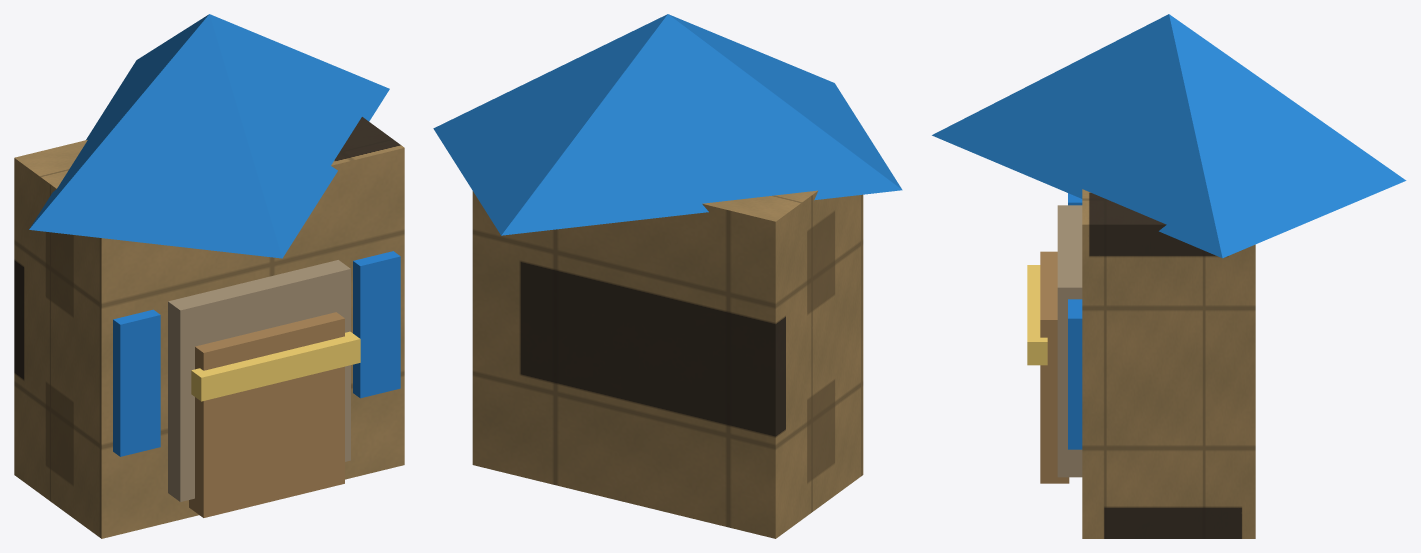
Rendered from city-module-gate-lod0.glb.
3 renders of one model, left to right at view 1: azimuth 30°, elevation 25°; view 2: azimuth 150°, elevation 25°; view 3: azimuth 270°, elevation 25°, orthographic.
Parts seen in each view (by area): view 1: module_gate_stone_arch, module_gate_blue_roof, module_gate_wood_door, module_gate_dark_arch_opening, module_gate_left_banner, module_gate_right_banner, module_gate_gold_crossbar; view 2: module_gate_stone_arch, module_gate_blue_roof; view 3: module_gate_blue_roof, module_gate_stone_arch, module_gate_dark_arch_opening, module_gate_wood_door, module_gate_right_banner, module_gate_gold_crossbar.
Boxes of the visible parts, box(x1,y1,x2,y2) form: module_gate_stone_arch: box(14, 117, 404, 538); module_gate_blue_roof: box(29, 14, 389, 258); module_gate_wood_door: box(189, 312, 344, 517); module_gate_dark_arch_opening: box(168, 260, 350, 501); module_gate_left_banner: box(113, 309, 160, 456); module_gate_right_banner: box(353, 251, 400, 398); module_gate_gold_crossbar: box(191, 331, 360, 401); module_gate_stone_arch: box(472, 190, 863, 538); module_gate_blue_roof: box(433, 14, 902, 235); module_gate_blue_roof: box(932, 14, 1406, 258); module_gate_stone_arch: box(1082, 189, 1255, 538); module_gate_dark_arch_opening: box(1057, 205, 1082, 477); module_gate_wood_door: box(1040, 251, 1069, 483); module_gate_right_banner: box(1068, 299, 1082, 449); module_gate_gold_crossbar: box(1027, 265, 1047, 365).
Bounding box in the file's own units: 0.3288 × 0.345 × 0.3288.
Materials: 6 (1 with a texture image).
